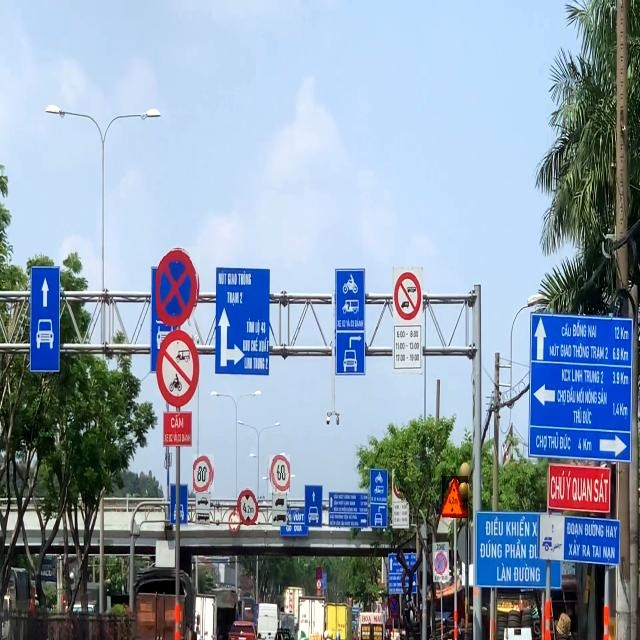bien_cam: (156, 247, 200, 326), (442, 476, 468, 518), (193, 454, 214, 492), (269, 456, 290, 494), (237, 488, 258, 525), (435, 552, 447, 574), (388, 594, 399, 618), (316, 567, 322, 579)
